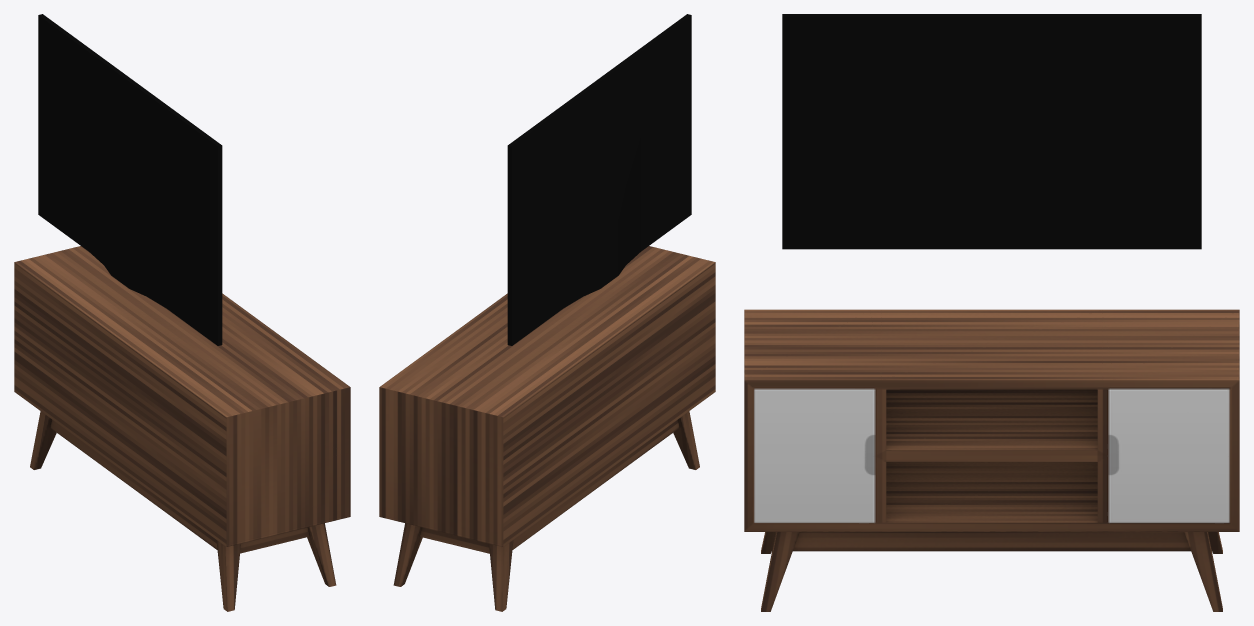
3 views of the same model, side by side, from view 1: azimuth 30°, elevation 25°; view 2: azimuth 150°, elevation 25°; view 3: azimuth 270°, elevation 25° (orthographic). The views are drawn at different scales.
Parts seen in each view (by area): view 1: Object_52; view 2: Object_52; view 3: Object_52.
Part boxes in pixels (x1,y1,x2,y2): Object_52: [14, 14, 350, 611]; Object_52: [379, 14, 715, 611]; Object_52: [744, 14, 1239, 611].
Size of the model in its own units: 0.3119 by 1.1 by 0.9227.
Materials: 1 (1 with a texture image).
